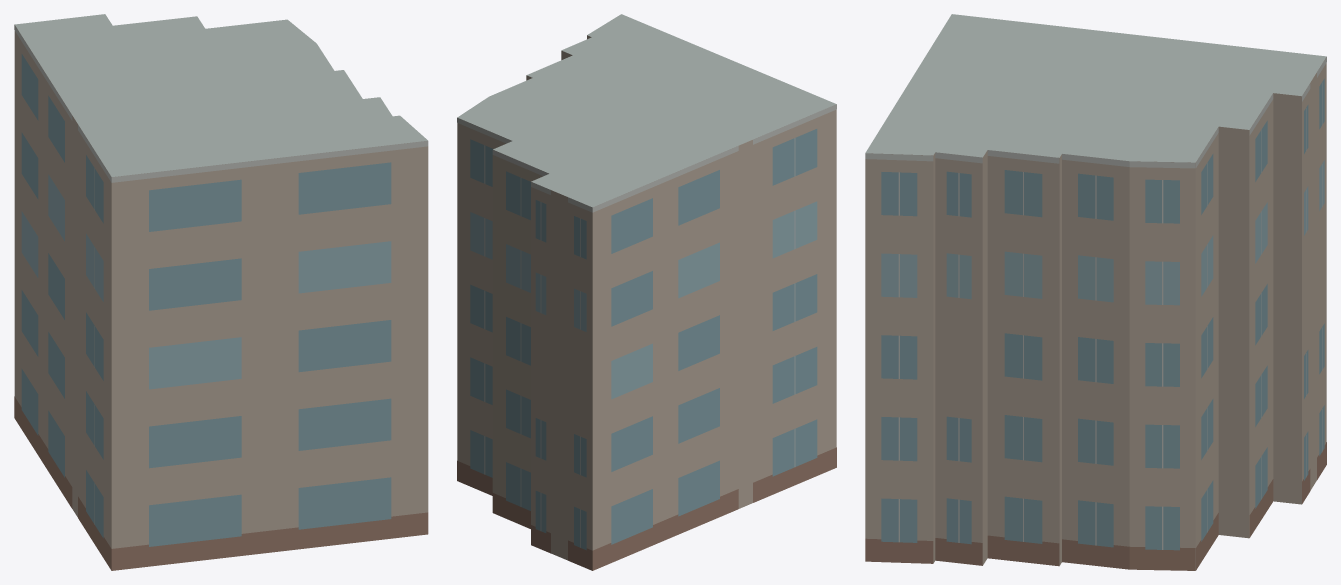
Rendered from survey-upis-32758367.glb.
3 views of the same model, side by side, from view 1: azimuth 30°, elevation 25°; view 2: azimuth 150°, elevation 25°; view 3: azimuth 270°, elevation 25° (orthographic). The views are drawn at different scales.
Visible parts, largest first — view 1: survey-upis-32758367.tmp; view 2: survey-upis-32758367.tmp; view 3: survey-upis-32758367.tmp.
Boxes of the visible parts, left/top/right/bottom form: survey-upis-32758367.tmp: left=14, top=14, right=428, bottom=570; survey-upis-32758367.tmp: left=457, top=14, right=836, bottom=570; survey-upis-32758367.tmp: left=865, top=14, right=1326, bottom=570.
Bounding box in the file's own units: 13.16 × 16.85 × 17.27.
